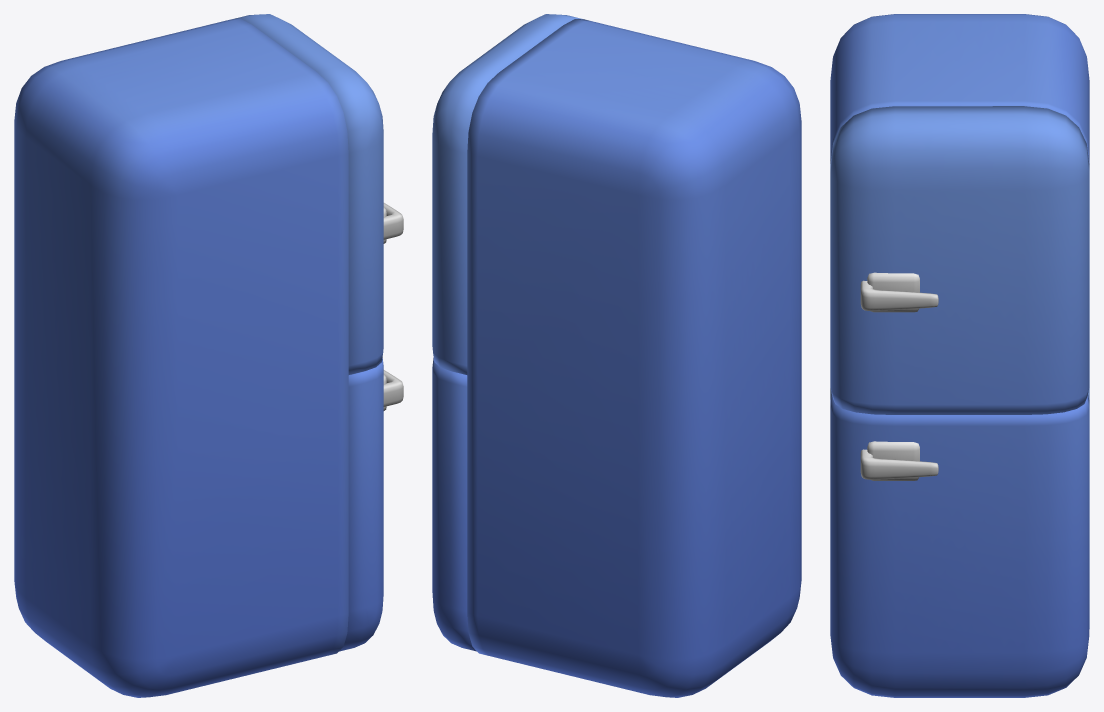
The model's file is Refrigerator01.FBX.
3 renders of one model, left to right at view 1: azimuth 30°, elevation 25°; view 2: azimuth 150°, elevation 25°; view 3: azimuth 270°, elevation 25°, orthographic.
Visible parts, largest first — view 1: Refrigerator01, Door_1, Door_2; view 2: Refrigerator01, Door_1, Door_2; view 3: Door_1, Door_2, Refrigerator01.
Part boxes in pixels (left/top/right/bottom): Refrigerator01: left=14, top=18, right=348, bottom=697; Door_1: left=234, top=14, right=403, bottom=374; Door_2: left=339, top=358, right=403, bottom=651; Refrigerator01: left=467, top=19, right=801, bottom=697; Door_1: left=432, top=14, right=583, bottom=374; Door_2: left=432, top=358, right=476, bottom=651; Door_1: left=830, top=106, right=1089, bottom=414; Door_2: left=830, top=394, right=1089, bottom=697; Refrigerator01: left=830, top=14, right=1089, bottom=628.
Bounding box in the file's own units: 65.92 × 121 × 48.9.
